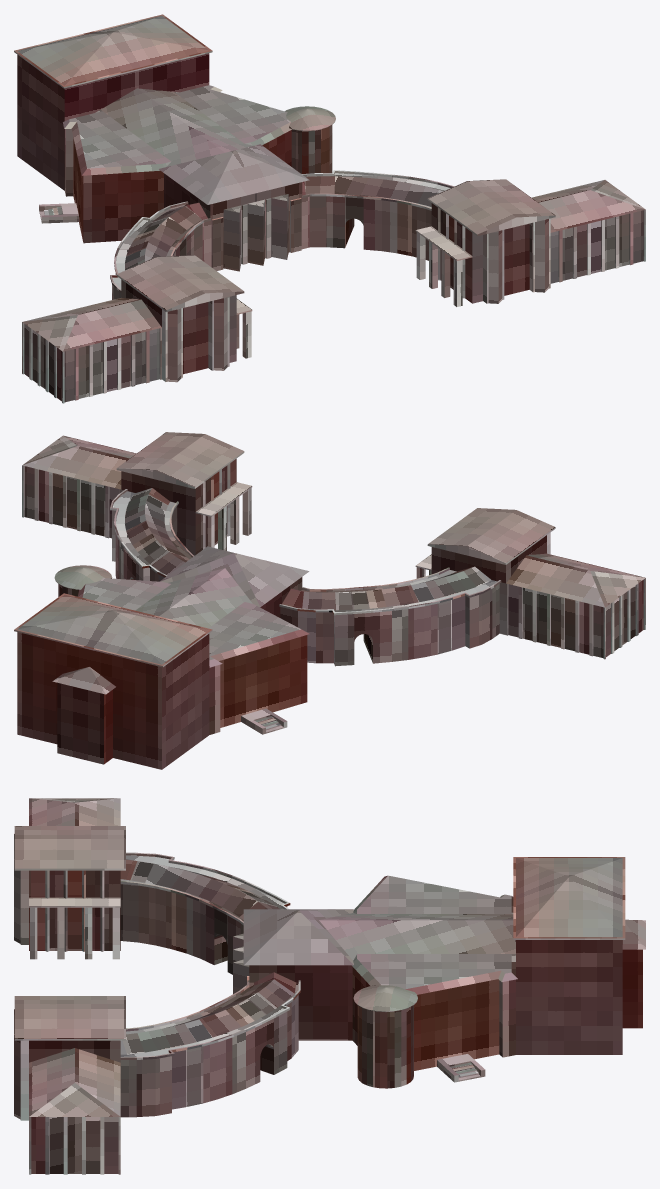
Rendered from palacepratsi.glb.
3 views of the same model, one above another, from view 1: azimuth 30°, elevation 25°; view 2: azimuth 150°, elevation 25°; view 3: azimuth 270°, elevation 25° (orthographic). The views are drawn at different scales.
Parts seen in each view (by area): view 1: palacepratsi; view 2: palacepratsi; view 3: palacepratsi.
Part boxes in pixels (bbox=[...]): palacepratsi: bbox=[14, 14, 645, 403]; palacepratsi: bbox=[14, 432, 645, 769]; palacepratsi: bbox=[14, 798, 645, 1174].
Bounding box in the file's own units: 155 × 31.42 × 130.
Materials: 5 (5 with a texture image).
